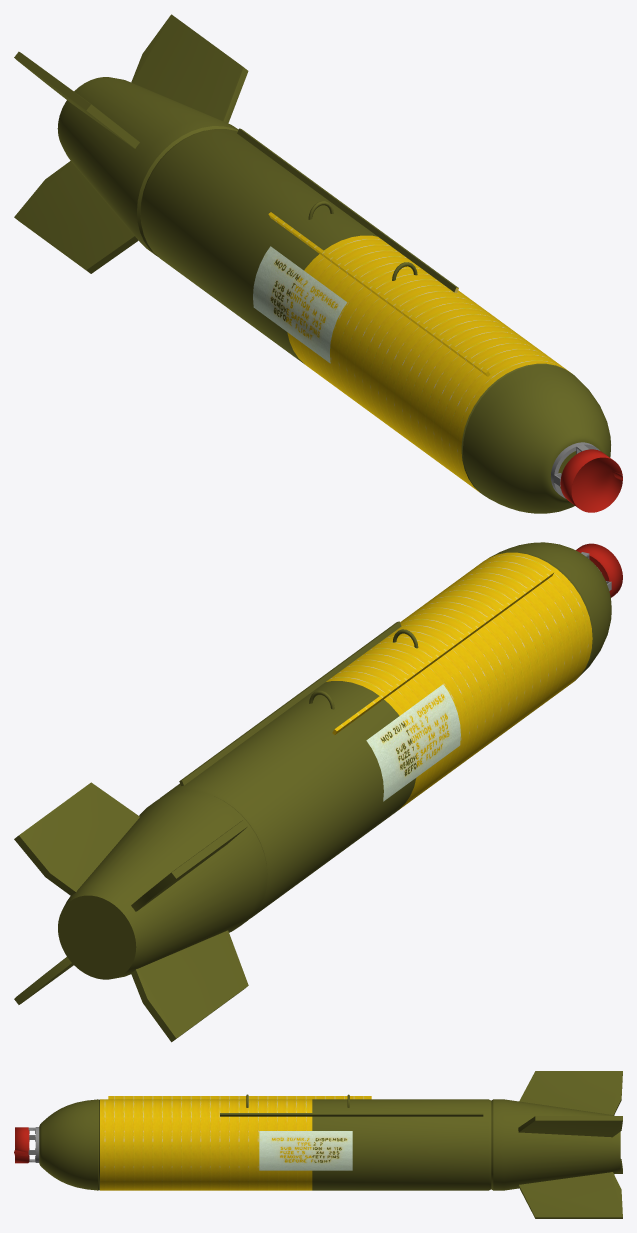
The model's file is daodan1.obj.
The picture shows the model from 3 angles, top to bottom: view 1: azimuth 30°, elevation 25°; view 2: azimuth 150°, elevation 25°; view 3: azimuth 270°, elevation 25°; orthographic projection. The views are drawn at different scales.
Parts seen in each view (by area): view 1: CBU, CBUALETA, CBUPEG2, CBURED; view 2: CBU, CBUALETA, CBUPEG2, CBURED; view 3: CBU, CBUALETA, CBUPEG2, CBURED.
Boxes of the visible parts, left/top/right/bottom form: CBU: left=57, top=77, right=610, bottom=513; CBUALETA: left=14, top=14, right=248, bottom=273; CBUPEG2: left=253, top=246, right=347, bottom=363; CBURED: left=560, top=449, right=622, bottom=512; CBU: left=58, top=542, right=611, bottom=979; CBUALETA: left=14, top=782, right=248, bottom=1042; CBUPEG2: left=366, top=684, right=460, bottom=801; CBURED: left=576, top=543, right=622, bottom=597; CBU: left=35, top=1096, right=620, bottom=1190; CBUALETA: left=518, top=1071, right=622, bottom=1218; CBUPEG2: left=259, top=1131, right=352, bottom=1170; CBURED: left=14, top=1127, right=29, bottom=1163.
Size of the model in its own units: 1490 by 1490 by 7994.
Materials: 6 (2 with a texture image).
